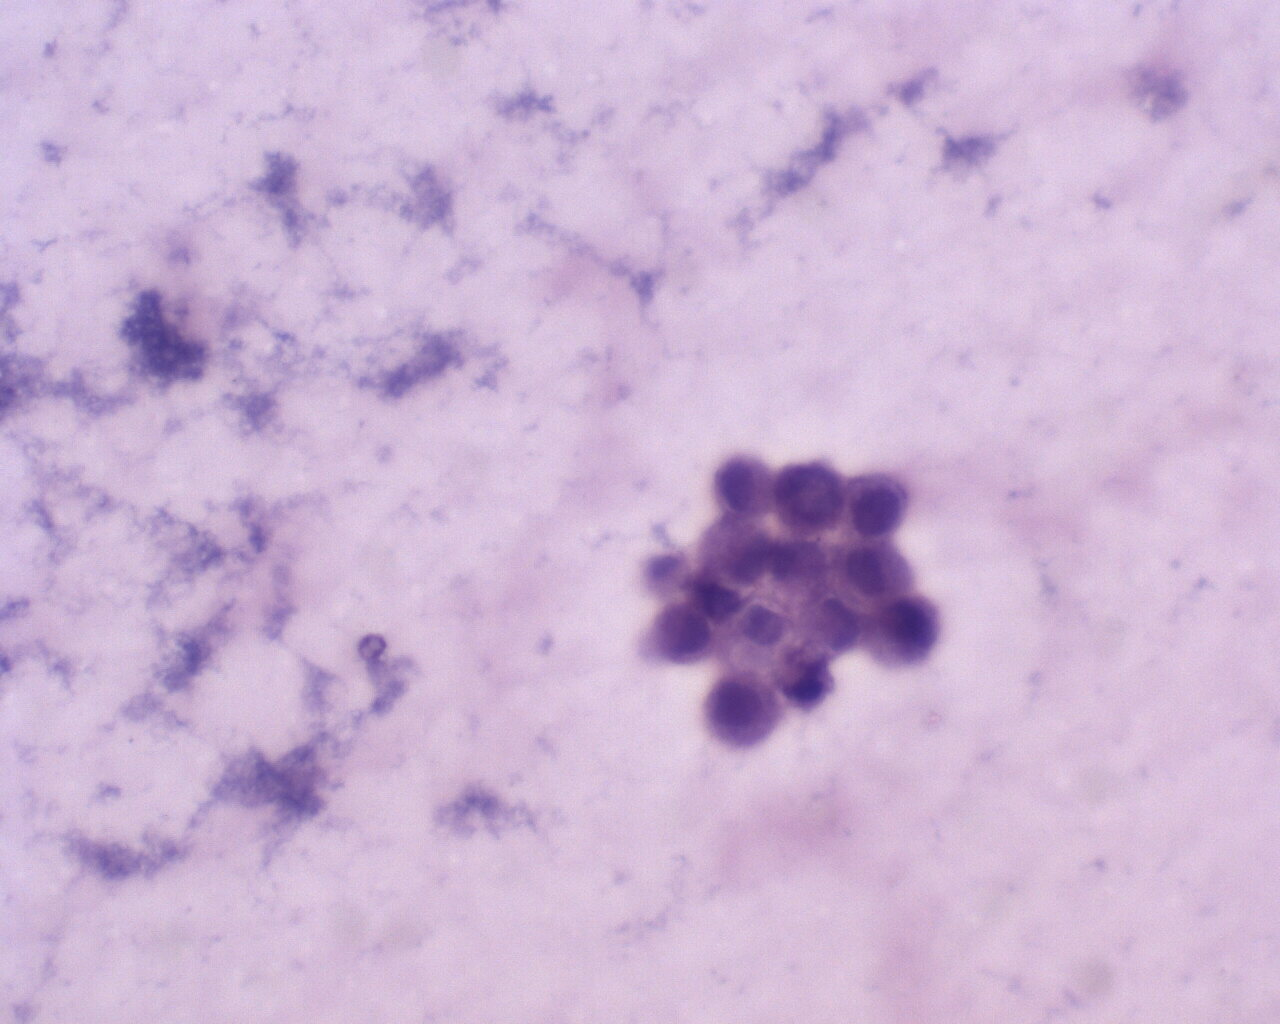ab: (698, 665, 783, 750), (865, 589, 945, 673), (776, 456, 846, 538), (844, 467, 914, 545), (712, 447, 779, 521), (651, 602, 716, 664)
